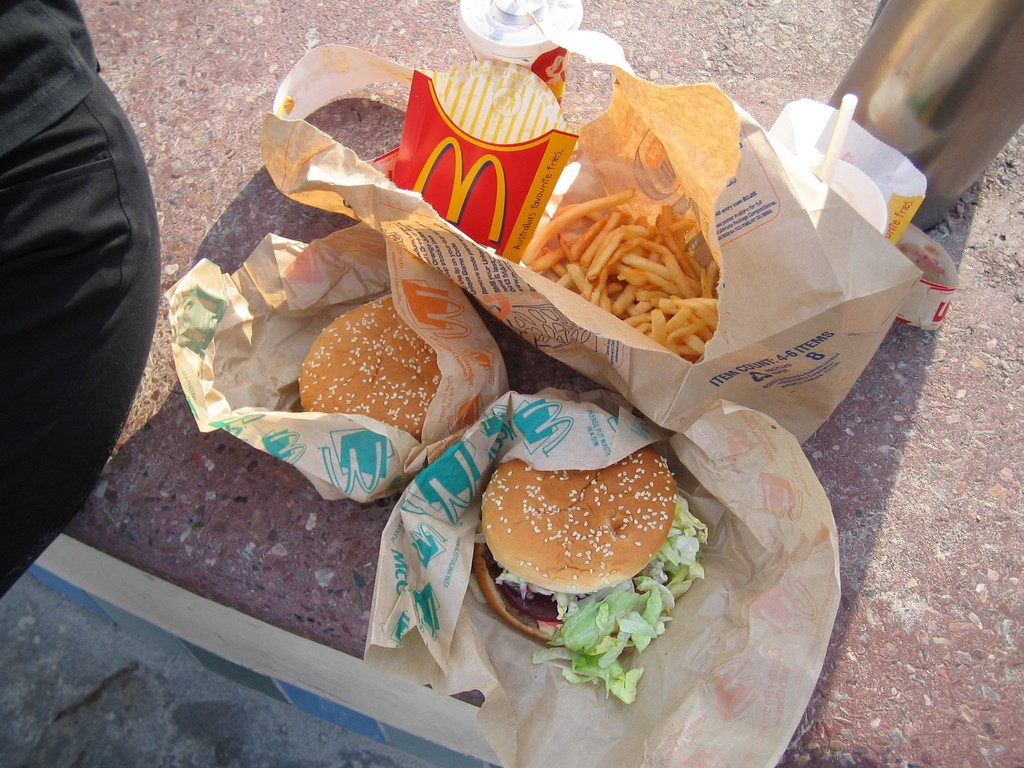Hamburger: (471, 444, 707, 702), (296, 293, 441, 441)
